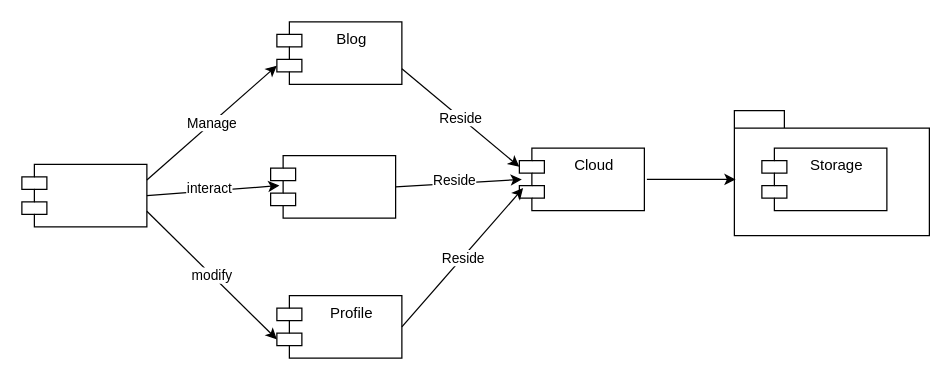
Some shapes in this 951 by 380 pixel diagram are drawn without their labels. The shapes that lost their labels are listed below. From the top down, each one's box as (x1, y1, x2, y2) in pixels, then its label:
(21, 163, 147, 227): USER
(269, 154, 396, 218): Comment
